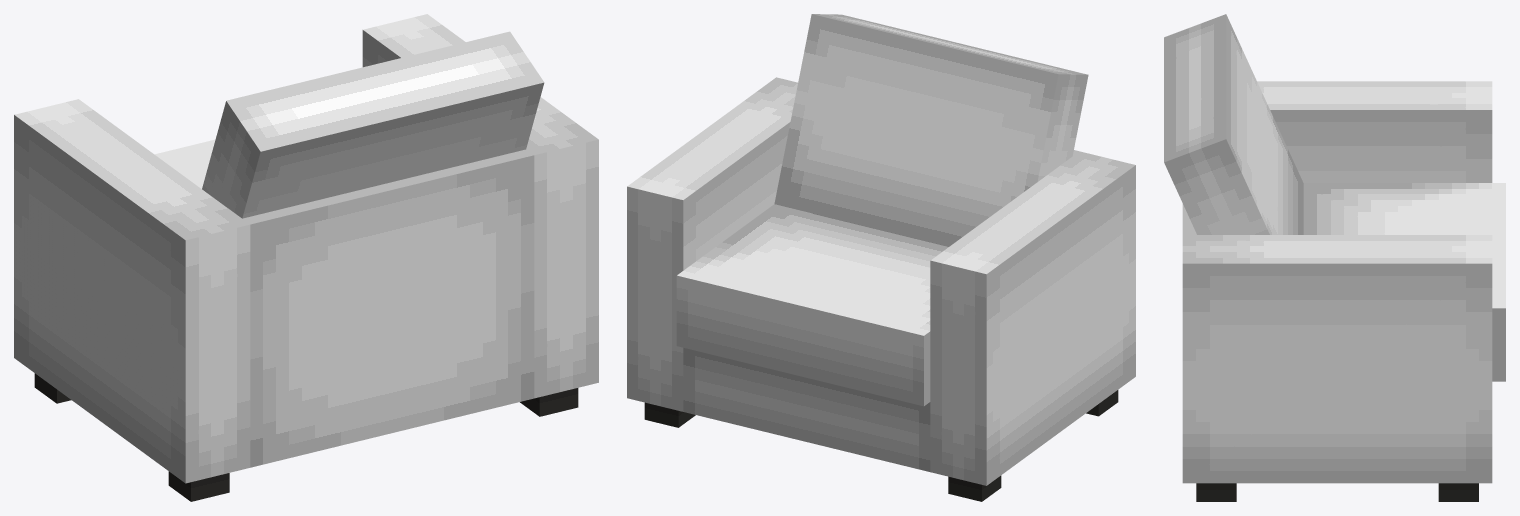
Rendered from sofa.glb.
3 renders of one model, left to right at view 1: azimuth 30°, elevation 25°; view 2: azimuth 150°, elevation 25°; view 3: azimuth 270°, elevation 25°, orthographic. The views are drawn at different scales.
Visible parts, largest first — view 1: c62b22cd-a878-038f-da43-dc500206c62a_7, 7d24414c-593e-6453-64a2-710e472fd4d7_10, 0bb10b83-f88d-85c5-6f6b-57a9e761cbed_5, 803e8287-6cb1-7328-18ff-db4331b90f98_9, 4a759e8c-e804-789a-bb27-85fc99a09417_6, 69e1181c-482b-5286-5839-615fafd423cc_3, f48c78e9-f9cc-cb52-e4b1-57ffcccc9e17_2; view 2: 7d24414c-593e-6453-64a2-710e472fd4d7_10, 0bb10b83-f88d-85c5-6f6b-57a9e761cbed_5, 4a759e8c-e804-789a-bb27-85fc99a09417_6, 803e8287-6cb1-7328-18ff-db4331b90f98_9, 844ec48c-1476-a097-8706-544411fc06b1_8, a123e7ba-eb02-b395-61a0-e68cac29d744_4, b2bbbd4c-ab17-f6bb-610e-72c7ad55b344_1; view 3: 803e8287-6cb1-7328-18ff-db4331b90f98_9, 0bb10b83-f88d-85c5-6f6b-57a9e761cbed_5, 7d24414c-593e-6453-64a2-710e472fd4d7_10, 4a759e8c-e804-789a-bb27-85fc99a09417_6, b2bbbd4c-ab17-f6bb-610e-72c7ad55b344_1, f48c78e9-f9cc-cb52-e4b1-57ffcccc9e17_2.
Part boxes in pixels (<box>): c62b22cd-a878-038f-da43-dc500206c62a_7: <box>242,149,534,467</box>; 7d24414c-593e-6453-64a2-710e472fd4d7_10: <box>14,99,250,483</box>; 0bb10b83-f88d-85c5-6f6b-57a9e761cbed_5: <box>202,31,544,218</box>; 803e8287-6cb1-7328-18ff-db4331b90f98_9: <box>362,14,598,398</box>; 4a759e8c-e804-789a-bb27-85fc99a09417_6: <box>154,139,215,188</box>; 69e1181c-482b-5286-5839-615fafd423cc_3: <box>168,471,229,501</box>; f48c78e9-f9cc-cb52-e4b1-57ffcccc9e17_2: <box>520,388,578,416</box>; 7d24414c-593e-6453-64a2-710e472fd4d7_10: <box>930,151,1135,485</box>; 0bb10b83-f88d-85c5-6f6b-57a9e761cbed_5: <box>774,14,1088,246</box>; 4a759e8c-e804-789a-bb27-85fc99a09417_6: <box>676,204,948,406</box>; 803e8287-6cb1-7328-18ff-db4331b90f98_9: <box>627,77,810,411</box>; 844ec48c-1476-a097-8706-544411fc06b1_8: <box>683,348,930,471</box>; a123e7ba-eb02-b395-61a0-e68cac29d744_4: <box>948,475,1001,501</box>; b2bbbd4c-ab17-f6bb-610e-72c7ad55b344_1: <box>644,402,695,427</box>; 803e8287-6cb1-7328-18ff-db4331b90f98_9: <box>1182,235,1492,483</box>; 0bb10b83-f88d-85c5-6f6b-57a9e761cbed_5: <box>1164,14,1303,234</box>; 7d24414c-593e-6453-64a2-710e472fd4d7_10: <box>1257,81,1492,234</box>; 4a759e8c-e804-789a-bb27-85fc99a09417_6: <box>1304,183,1505,381</box>; b2bbbd4c-ab17-f6bb-610e-72c7ad55b344_1: <box>1438,483,1478,501</box>; f48c78e9-f9cc-cb52-e4b1-57ffcccc9e17_2: <box>1196,483,1236,501</box>.
Bounding box in the file's own units: 32 × 27.86 × 25.39.
Materials: 1 (1 with a texture image).
